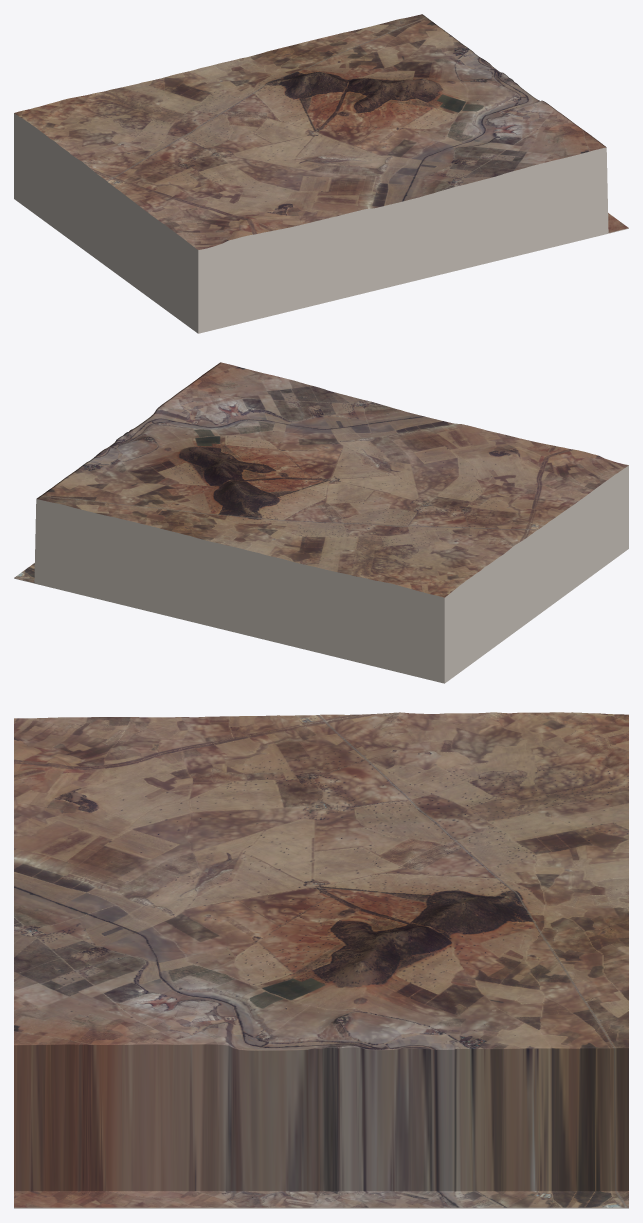
Rendered from sierra.gltf.
3 views of the same model, one above another, from view 1: azimuth 30°, elevation 25°; view 2: azimuth 150°, elevation 25°; view 3: azimuth 270°, elevation 25° (orthographic). The views are drawn at different scales.
Visible parts, largest first — view 1: PNOA_MDT05_ETRS89_HU30_0659_LID, side (×2); view 2: PNOA_MDT05_ETRS89_HU30_0659_LID, side (×2); view 3: PNOA_MDT05_ETRS89_HU30_0659_LID, side.
Boxes of the visible parts, left/top/right/bottom form: PNOA_MDT05_ETRS89_HU30_0659_LID: left=14, top=14, right=628, bottom=249; side (×2): left=14, top=113, right=628, bottom=333; PNOA_MDT05_ETRS89_HU30_0659_LID: left=14, top=362, right=628, bottom=597; side (×2): left=14, top=465, right=628, bottom=683; PNOA_MDT05_ETRS89_HU30_0659_LID: left=14, top=712, right=628, bottom=1207; side: left=14, top=1207, right=628, bottom=1208.
Bounding box in the file's own units: 1000 × 221 × 741.
Materials: 2 (1 with a texture image).
